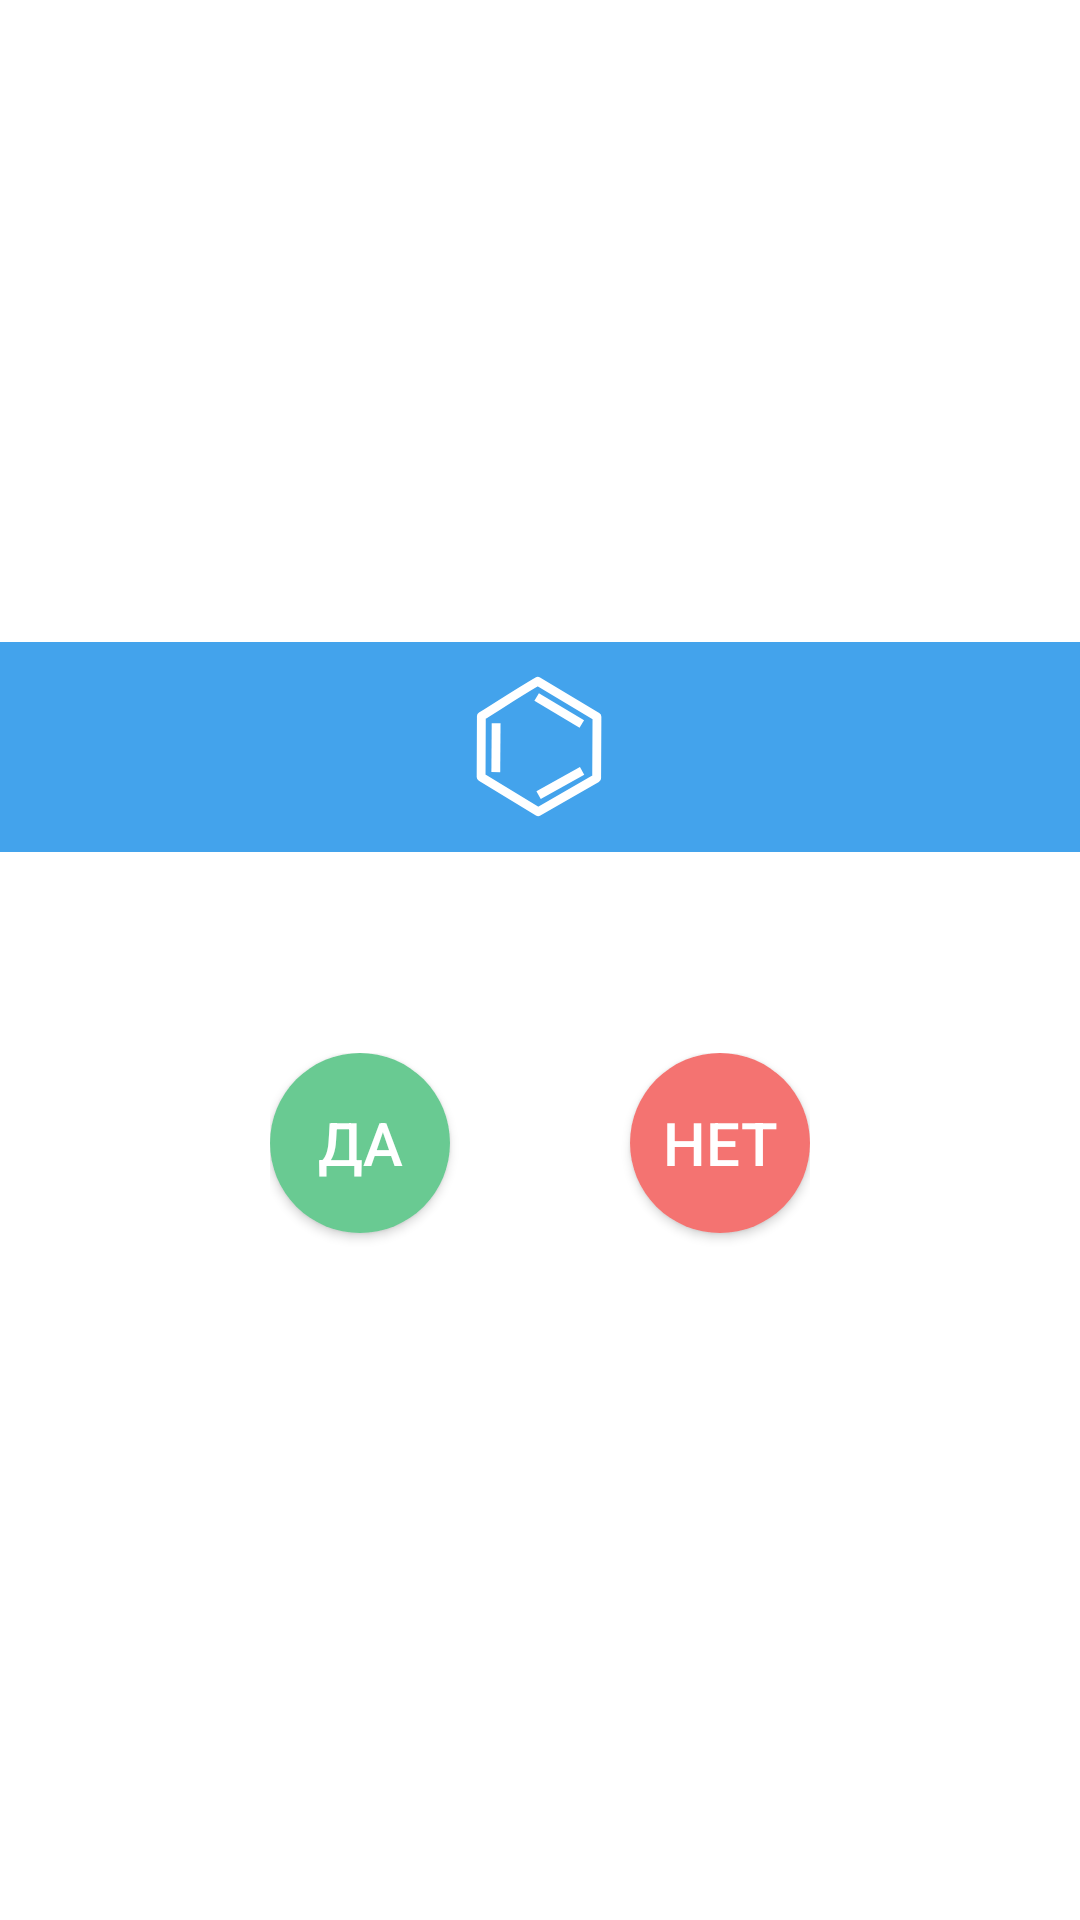

Locate icon controls on the screen. Image size 1080w x 1920h, boxes as bbox=(x1, y1, x2, y2).
bensol: bbox=(476, 676, 602, 817)
